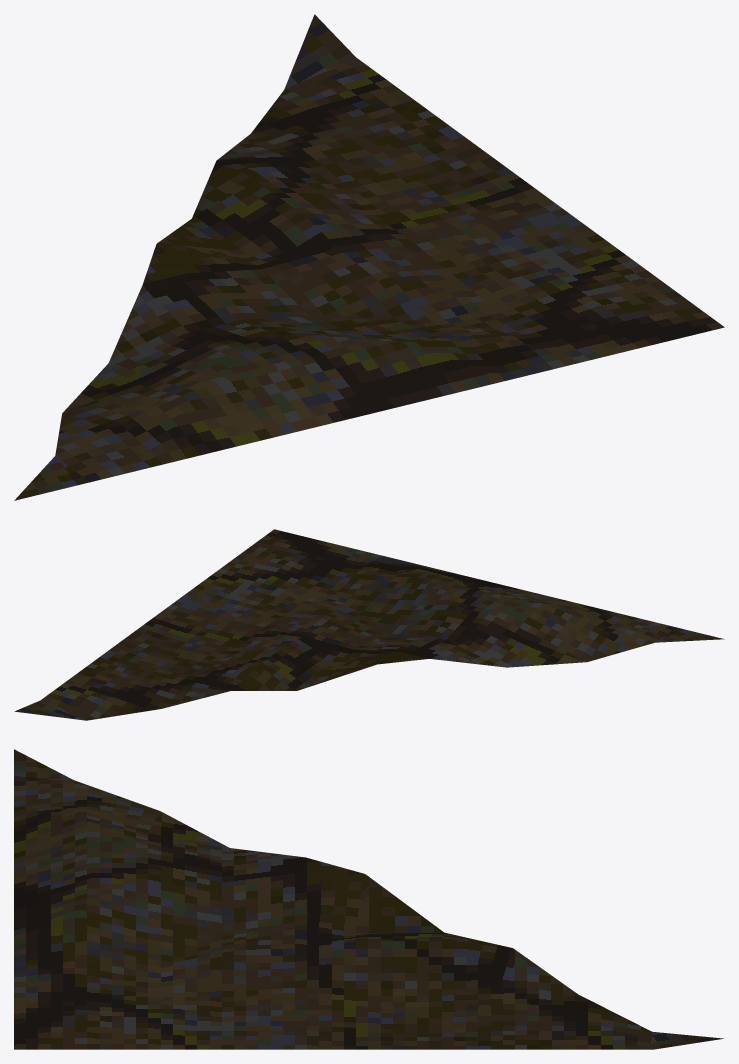
Rendered from GroundHalf.fbx.
3 views of the same model, one above another, from view 1: azimuth 30°, elevation 25°; view 2: azimuth 150°, elevation 25°; view 3: azimuth 270°, elevation 25° (orthographic). The views are drawn at different scales.
Visible parts, largest first — view 1: GroundHalf; view 2: GroundHalf; view 3: GroundHalf.
Boxes of the visible parts, x1,y1,x2,y2 form: GroundHalf: (14, 14, 724, 500); GroundHalf: (14, 529, 724, 720); GroundHalf: (14, 749, 723, 1049).
Bounding box in the file's own units: 182 × 9.8 × 182.
1 material, 1 textured.
